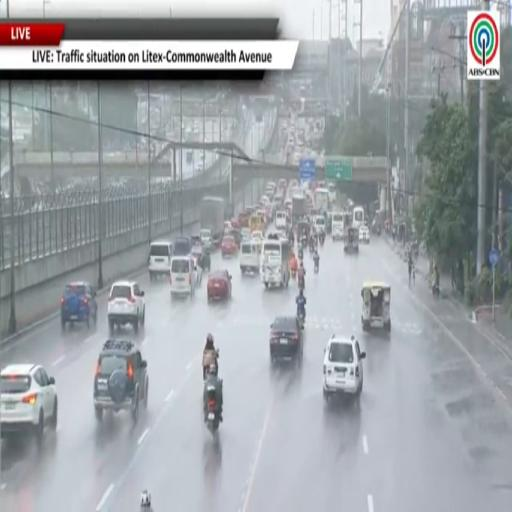bus: (260, 239, 290, 287), (313, 188, 329, 213), (353, 206, 364, 228), (328, 183, 336, 204)
car: (0, 364, 58, 443), (93, 340, 148, 422), (324, 335, 365, 402), (108, 281, 145, 332), (61, 282, 97, 328), (270, 316, 303, 363), (170, 255, 197, 298), (149, 240, 172, 280), (207, 270, 232, 301), (191, 246, 203, 284), (173, 236, 191, 255), (221, 236, 237, 257), (225, 229, 241, 248), (200, 229, 212, 248), (359, 226, 370, 244), (250, 230, 264, 244), (191, 235, 202, 249), (241, 228, 251, 241)
motorcycle: (206, 386, 220, 435), (203, 349, 219, 380), (297, 309, 305, 328), (432, 284, 440, 298), (298, 278, 305, 291), (319, 232, 324, 247), (309, 240, 315, 252), (301, 237, 307, 248), (298, 248, 303, 261), (291, 270, 296, 279), (314, 263, 318, 274), (377, 226, 380, 235)
truck: (200, 197, 225, 245), (292, 195, 308, 225)
